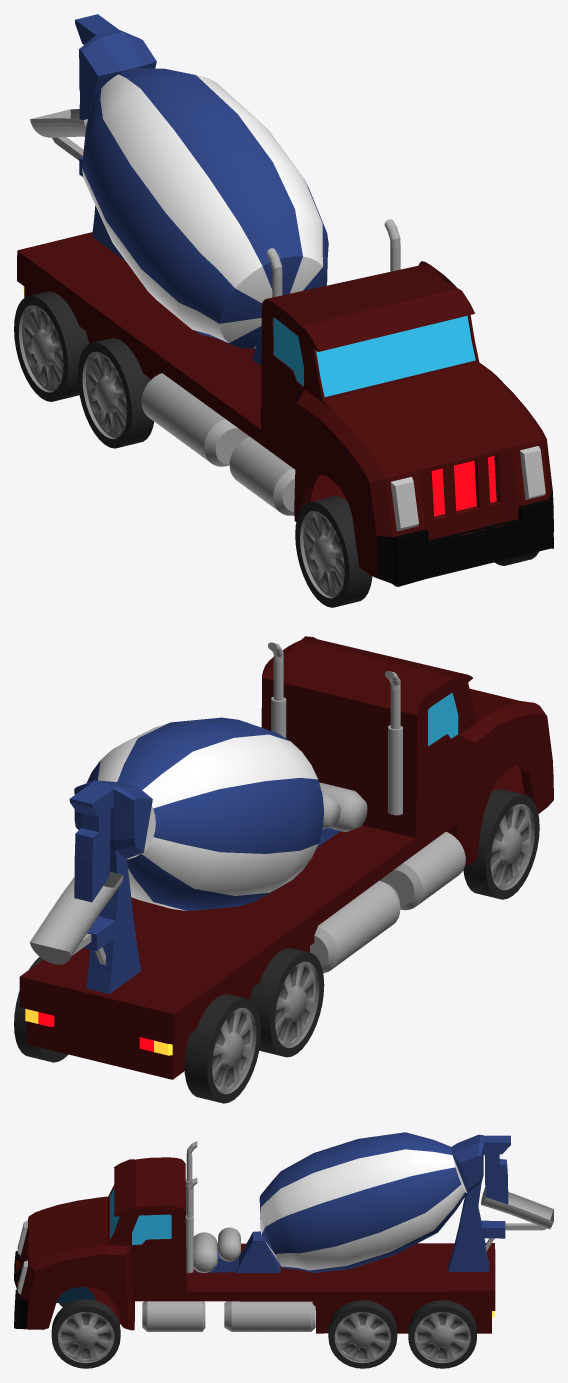
Rendered from CementTruck.fbx.
3 views of the same model, one above another, from view 1: azimuth 30°, elevation 25°; view 2: azimuth 150°, elevation 25°; view 3: azimuth 270°, elevation 25° (orthographic). The views are drawn at different scales.
Parts seen in each view (by area): view 1: Cube; view 2: Cube; view 3: Cube.
Boxes of the visible parts, <box> form: Cube: <box>14,14,553,607</box>; Cube: <box>14,636,553,1103</box>; Cube: <box>14,1132,553,1368</box>.
Size of the model in its own units: 376 by 577 by 1400.
